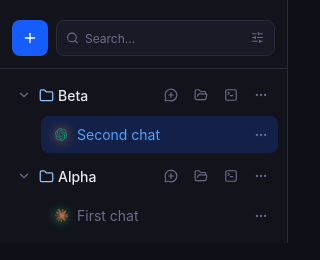
Test: Sidebar › disables the search input when all scopes are unchecked
Click the button named "Search options": (258, 38) [246,26,269,49]
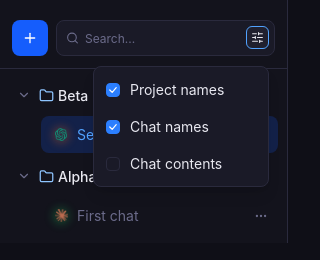
Click the button "Project names": (181, 90) [98,71,264,108]
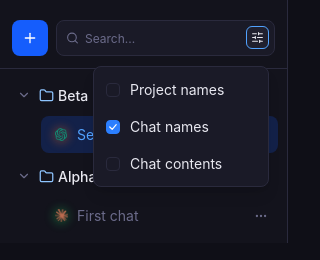
Click the button "Chat names": (181, 126) [98,108,264,145]
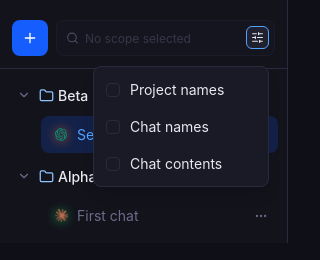
Now the field named "Search projects and chats" is disabled, box [56,20,275,56]
